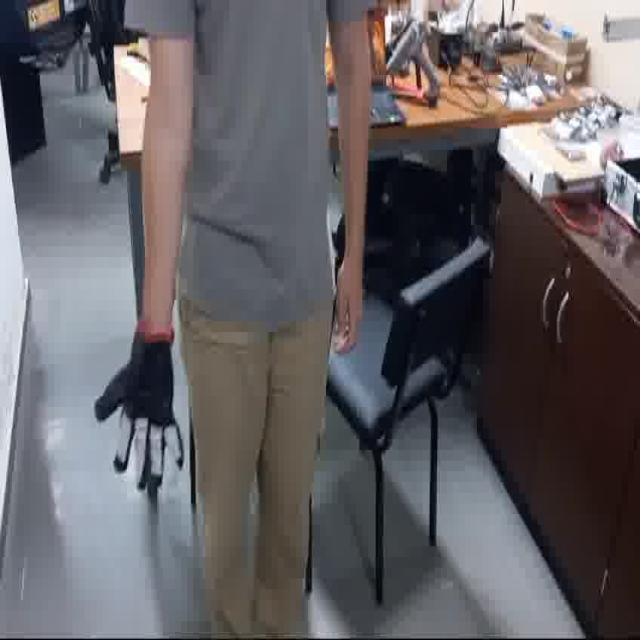Gloves: (92, 330, 188, 499)
